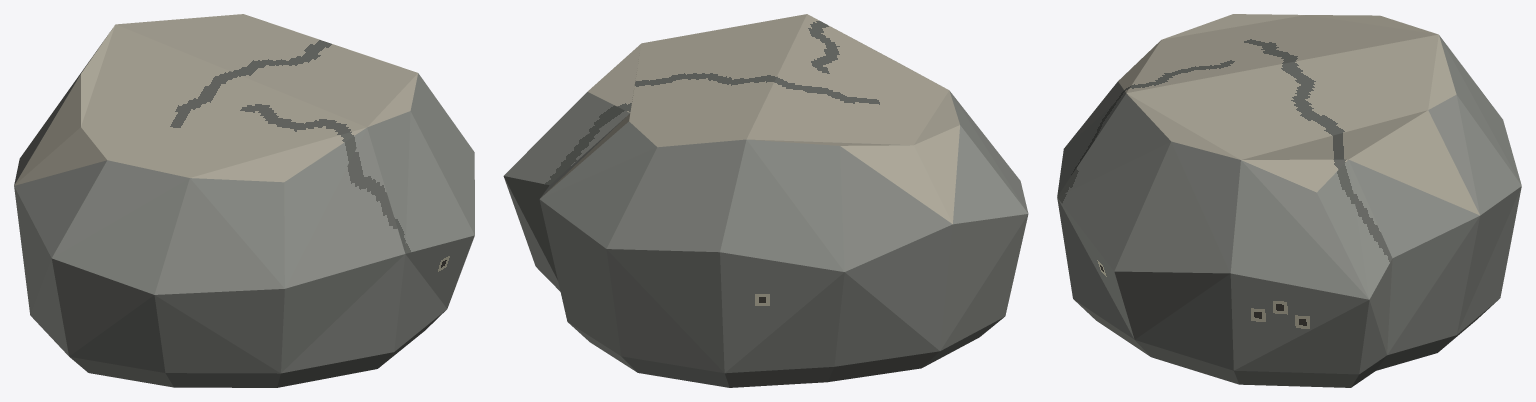
3 views of the same model, side by side, from view 1: azimuth 30°, elevation 25°; view 2: azimuth 150°, elevation 25°; view 3: azimuth 270°, elevation 25° (orthographic).
Parts seen in each view (by area): view 1: matte_reef_large; view 2: matte_reef_large; view 3: matte_reef_large.
Part boxes in pixels (box(x1,y1,x2,y2)): matte_reef_large: box(14, 14, 474, 387); matte_reef_large: box(503, 14, 1028, 387); matte_reef_large: box(1057, 14, 1521, 387).
Bounding box in the file's own units: 2.15 × 1.1 × 1.92.
1 material, 1 textured.
